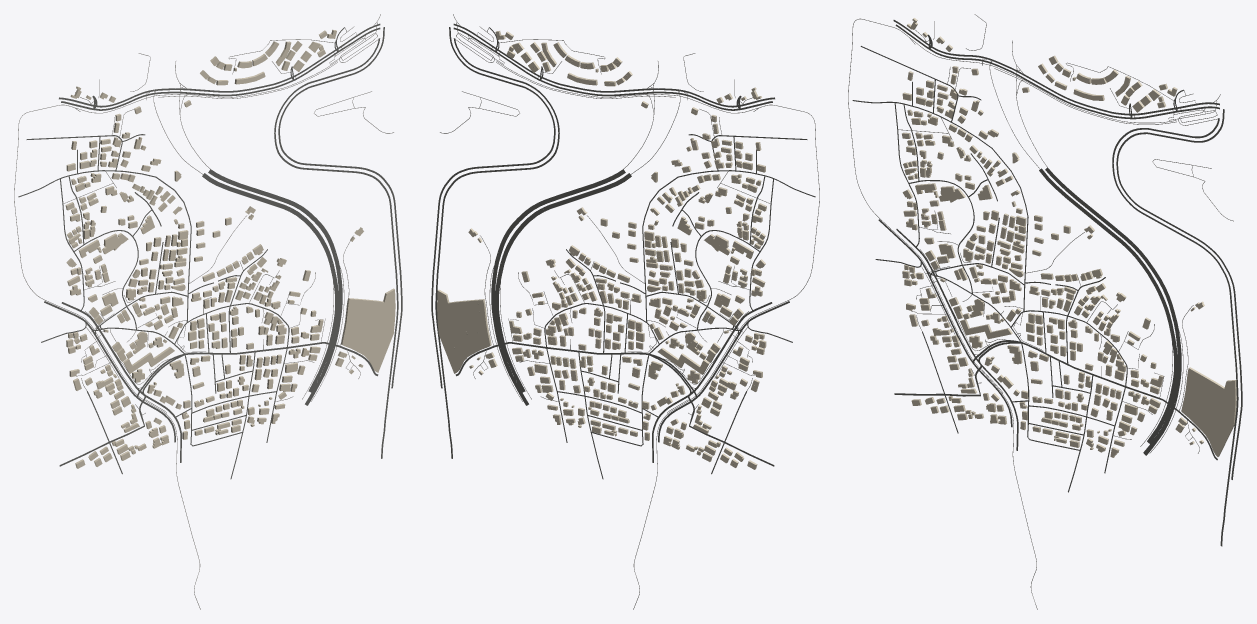
The model's file is historic-palestine-10_24_3523_3181.glb.
3 views of the same model, side by side, from view 1: azimuth 30°, elevation 25°; view 2: azimuth 150°, elevation 25°; view 3: azimuth 330°, elevation 25° (orthographic).
Parts seen in each view (by area): view 1: Building_.086, Road שדרות משה דיין.001, Road שדרות משה דיין, Road הקו האדום.001; view 2: Building_.086, Road שדרות משה דיין.001, Road שדרות משה דיין, Road הקו האדום.001; view 3: Building_.086, Road שדרות משה דיין.001, Road שדרות משה דיין, Road הקו האדום.001.
Part boxes in pixels (x1,y1,x2,y2): Building_.086: [341, 288, 395, 372]; Road שדרות משה דיין.001: [274, 38, 398, 458]; Road שדרות משה דיין: [278, 27, 402, 388]; Road הקו האדום.001: [14, 95, 200, 609]; Building_.086: [437, 289, 491, 373]; Road שדרות משה דיין.001: [435, 38, 559, 458]; Road שדרות משה דיין: [431, 27, 555, 388]; Road הקו האדום.001: [633, 95, 819, 609]; Building_.086: [1181, 367, 1236, 456]; Road שדרות משה דיין.001: [1112, 118, 1238, 546]; Road שדרות משה דיין: [1116, 109, 1242, 479]; Road הקו האדום.001: [848, 18, 1037, 609].
Size of the model in its own units: 1200 by 1687 by 8.7.
